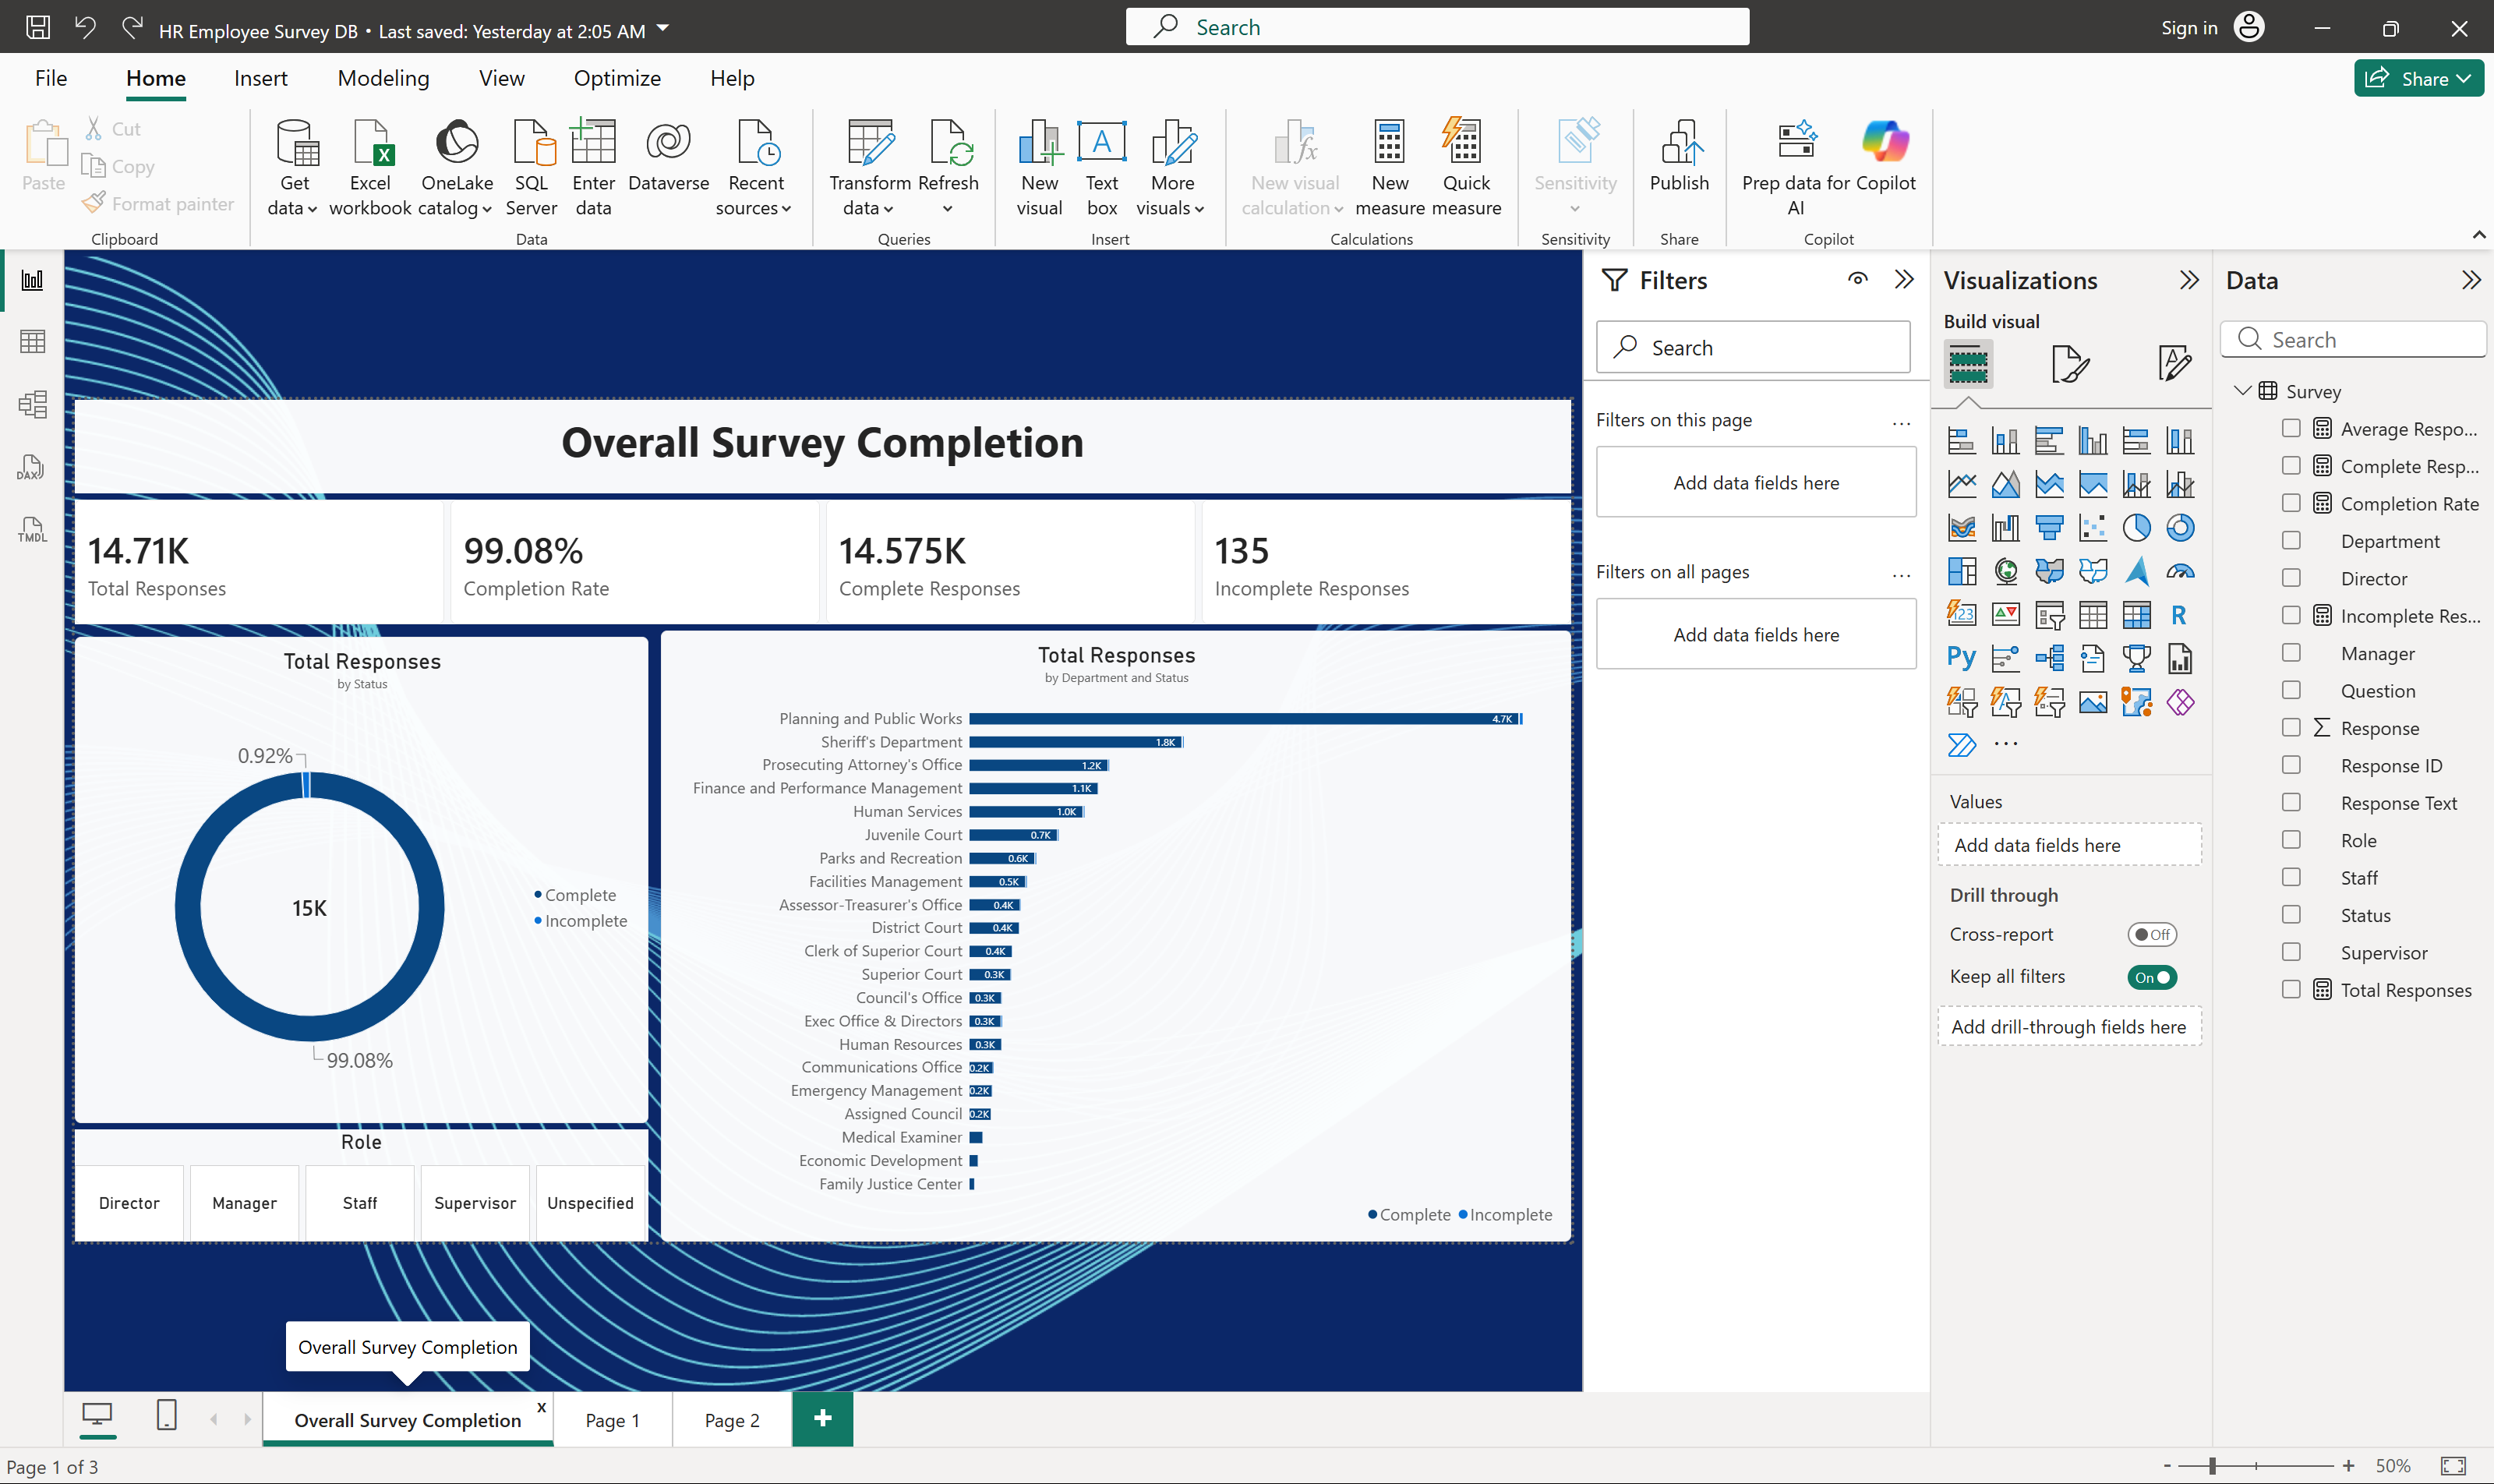

The dashboard page shown, as its layout file describes it:
{"tool":"powerbi","page":{"name":"Survey Overview & Completion","canvas":[1920,1080],"ordinal":0},"visuals":[{"type":"cardVisual","fields":{"Data":["Survey.Total Responses","Survey.Completion Rate","Survey.Complete Responses","Survey.Incomplete Responses"]},"box":[0,128,1920,160],"z":0},{"type":"donutChart","fields":{"Category":["Survey.Status"],"Y":["Survey.Total Responses","select"]},"box":[0,304,592,368],"z":1000},{"type":"barChart","fields":{"Category":["Survey.Department"],"Y":["Survey.Total Responses"],"Series":["Survey.Status"]},"box":[608,296,784,784],"z":2000},{"type":"advancedSlicerVisual","fields":{"Values":["Survey.Role"]},"box":[1408,824,512,256],"z":3000},{"type":"textbox","box":[0,0,1920,120],"z":4000},{"type":"pieChart","fields":{"Category":["Survey.Role"],"Y":["Survey.Total Responses"]},"box":[0,680,592,400],"z":5000},{"type":"listSlicer","fields":{"Values":["Survey.Department"]},"box":[1408,304,512,496],"z":5001}]}

Visuals, with their boxes on the page's 1920x1080 design canvas (x1, y1, x2, y2). These are canvas units, not pixel positions in the 2494x1484 screenshot, which may show the page scaled, cropped or inside an application window:
cardVisual - Survey.Total Responses x Survey.Completion Rate: locate(0, 128, 1920, 288)
donutChart - Survey.Status x Survey.Total Responses: locate(0, 304, 592, 672)
barChart - Survey.Department x Survey.Total Responses: locate(608, 296, 1392, 1080)
advancedSlicerVisual - Survey.Role: locate(1408, 824, 1920, 1080)
textbox: locate(0, 0, 1920, 120)
pieChart - Survey.Role x Survey.Total Responses: locate(0, 680, 592, 1080)
listSlicer - Survey.Department: locate(1408, 304, 1920, 800)
